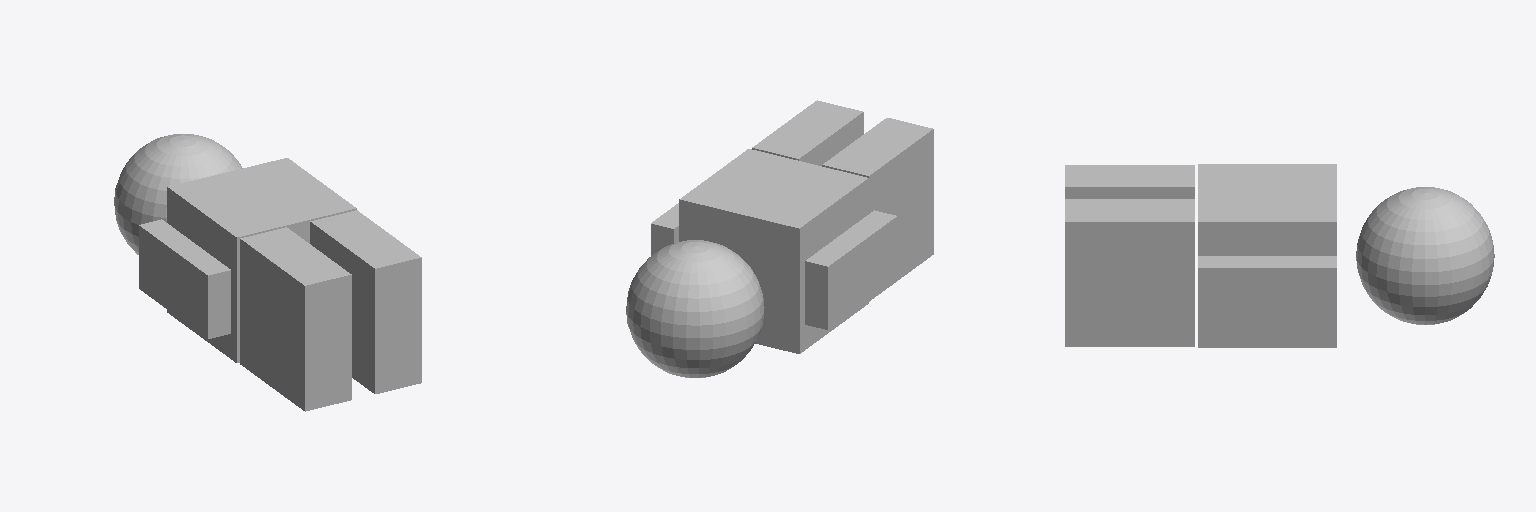
The model's file is sporty_robot_animation_000016.obj.
The picture shows the model from 3 angles: view 1: azimuth 30°, elevation 25°; view 2: azimuth 150°, elevation 25°; view 3: azimuth 270°, elevation 25°; orthographic projection.
Visible parts, largest first — view 1: Cube.002, Cube.001_Cube.005, Cube, Cube.004, Sphere.001; view 2: Cube, Sphere.001, Cube.002, Cube.004, Cube.001_Cube.005, Cube.003; view 3: Cube.001_Cube.005, Cube, Sphere.001, Cube.003, Cube.002.
Part boxes in pixels (bbox=[...]): Cube.002: bbox=[240, 227, 351, 411]; Cube.001_Cube.005: bbox=[310, 210, 421, 393]; Cube: bbox=[167, 158, 356, 362]; Cube.004: bbox=[139, 219, 230, 338]; Sphere.001: bbox=[114, 134, 242, 254]; Cube: bbox=[679, 149, 868, 353]; Sphere.001: bbox=[626, 240, 764, 377]; Cube.002: bbox=[822, 118, 933, 301]; Cube.004: bbox=[805, 210, 897, 329]; Cube.001_Cube.005: bbox=[752, 100, 863, 165]; Cube.003: bbox=[651, 203, 678, 255]; Cube.001_Cube.005: bbox=[1065, 199, 1194, 346]; Cube: bbox=[1198, 164, 1336, 347]; Sphere.001: bbox=[1356, 187, 1494, 324]; Cube.003: bbox=[1198, 256, 1336, 330]; Cube.002: bbox=[1065, 165, 1194, 198].
Bounding box in the file's own units: 0.76 × 0.514 × 1.59.